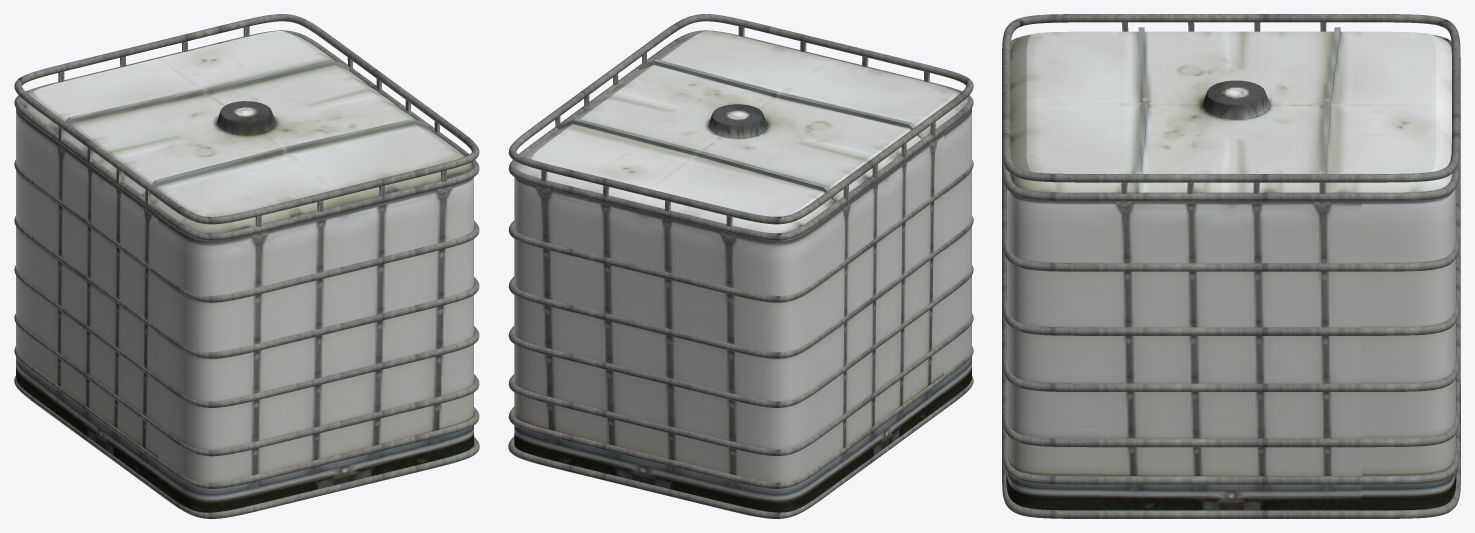
Rendered from CagedWaterTank.gltf.
3 renders of one model, left to right at view 1: azimuth 30°, elevation 25°; view 2: azimuth 150°, elevation 25°; view 3: azimuth 270°, elevation 25°, orthographic. The views are drawn at different scales.
Parts seen in each view (by area): view 1: node1; view 2: node1; view 3: node1.
Part boxes in pixels (box(x1,y1,x2,y2)): node1: box(14, 14, 479, 518); node1: box(508, 14, 973, 518); node1: box(1002, 14, 1460, 518).
Bounding box in the file's own units: 1.06 × 1.04 × 1.26.
